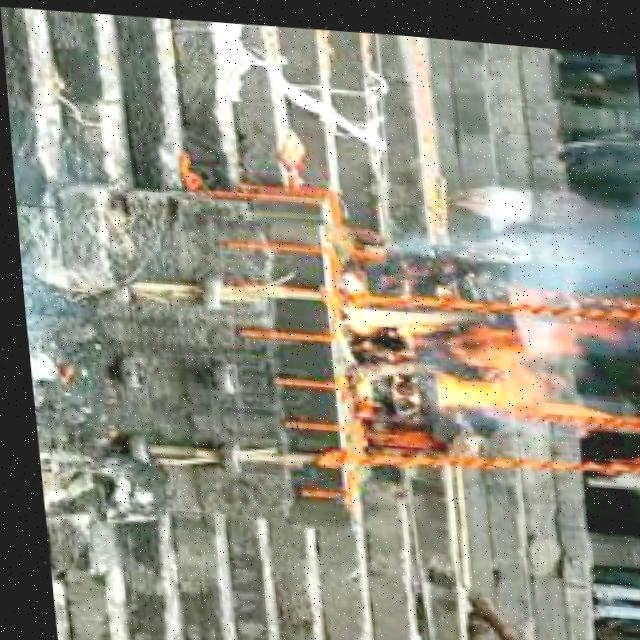Fire: (332, 290, 575, 416)
